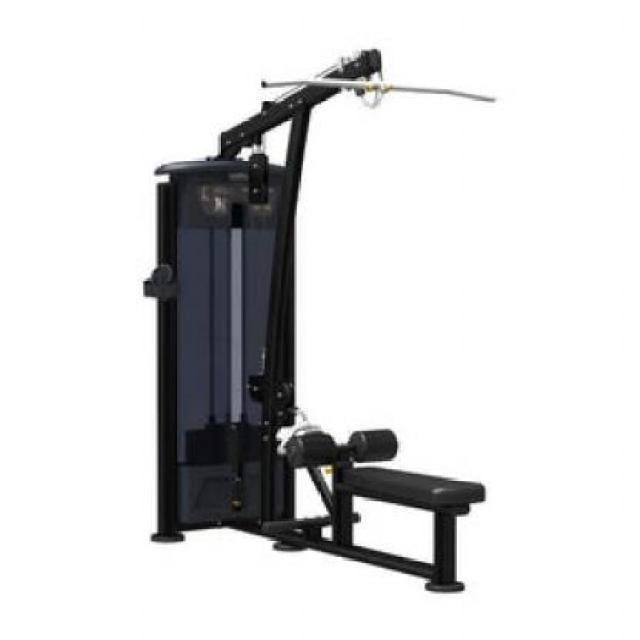Lat Pull Down: (131, 36, 571, 606)
